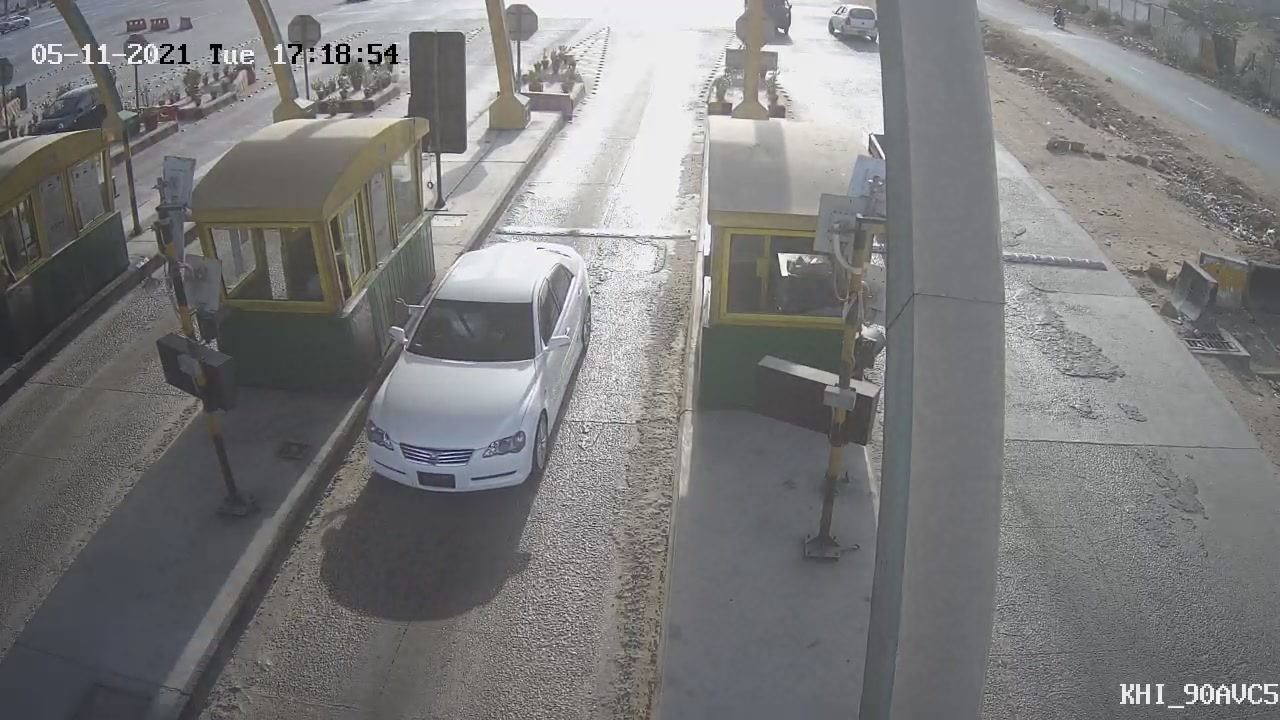F1: (334, 227, 613, 513)
